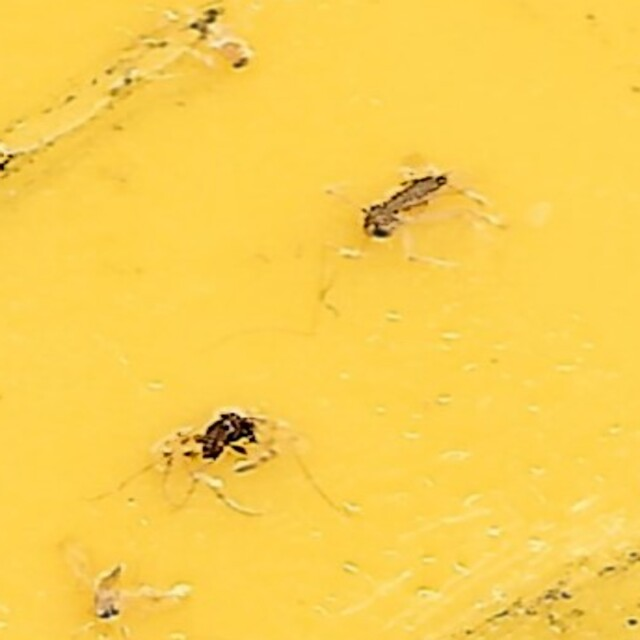Nematocera: (359, 159, 454, 241), (186, 402, 272, 481)
